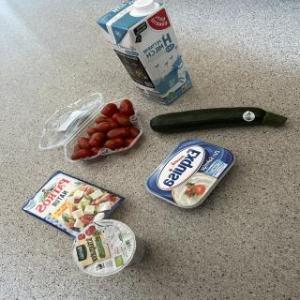tomato: (66, 144, 94, 162), (105, 125, 131, 143), (118, 95, 136, 117), (92, 119, 120, 133)
zucchini: (147, 100, 289, 142)
